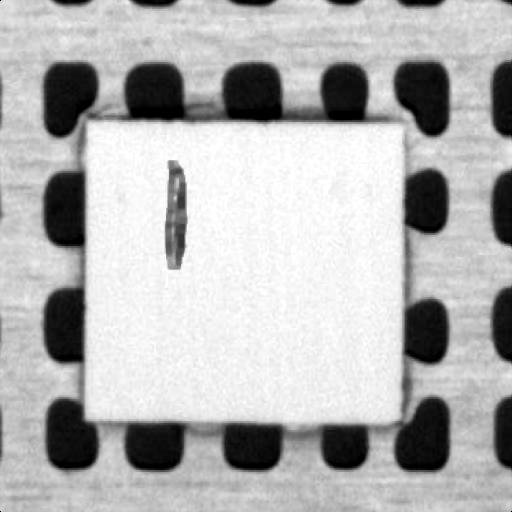DIE_INK: (215, 119, 251, 202)
